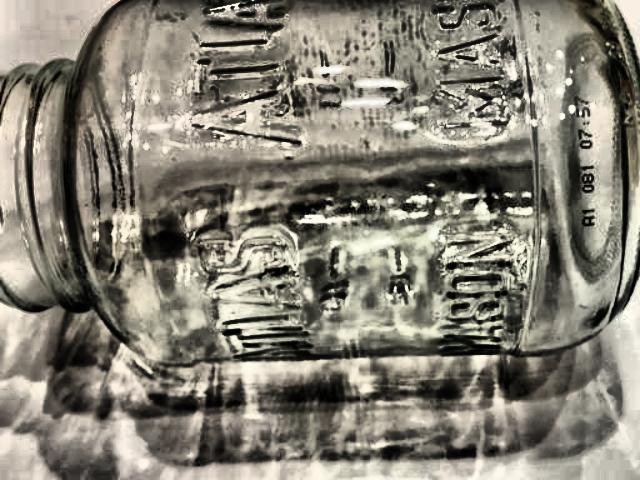Almennt: (0, 0, 640, 371)
